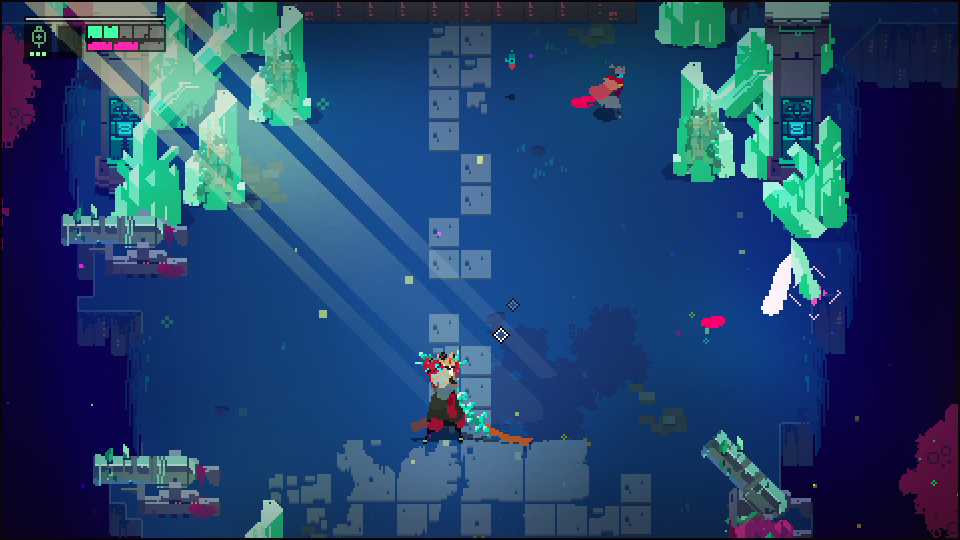hanged_man: (412, 345, 494, 453)
player: (586, 63, 630, 120)
